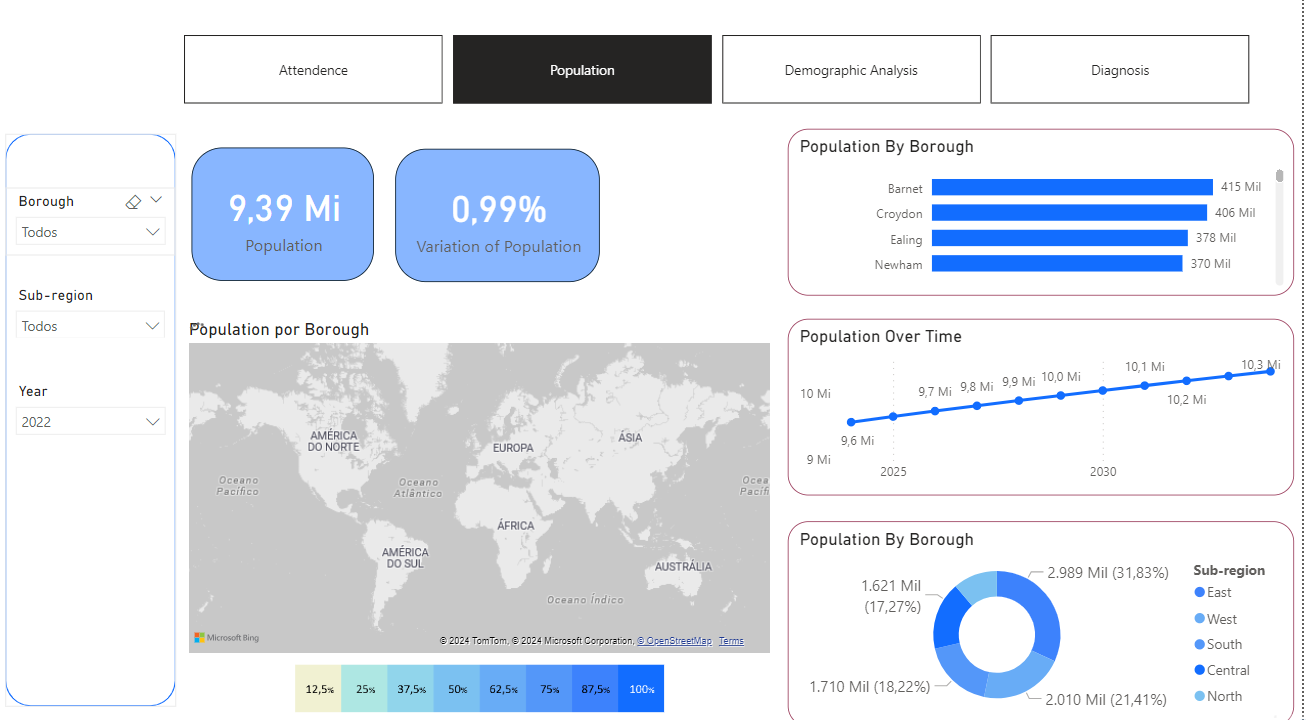

Layout of this report page (visuals, bound fields, positions):
{"tool":"powerbi","page":{"name":"Population","canvas":[1280,720],"ordinal":1},"visuals":[{"type":"shape","box":[11.3,140.8,166.7,559.8],"z":0,"group":"g1"},{"type":"card","fields":{"Values":["Sum(f_population.Population)"]},"box":[192.9,154.1,178.6,130],"z":0},{"type":"slicer","fields":{"Values":["d_date.Date.Variation.Date Hierarchy.Year"]},"box":[11.3,378.6,166.7,58.2],"z":500,"group":"g1"},{"type":"slicer","fields":{"Values":["d_area.Area name"]},"box":[11.3,193.8,166.7,66],"z":1000,"group":"g1"},{"type":"group","id":"g1","title":"Grupo 1","box":[11.3,140.8,166.7,559.8],"z":1000},{"type":"slicer","fields":{"Values":["d_area.Sub-region"]},"box":[11.3,285.4,166.3,54.8],"z":1500,"group":"g1"},{"type":"filledMap","fields":{"Category":["d_area.Borough Adjusted"]},"box":[186.1,322,577.6,331.7],"z":2000},{"type":"pageNavigator","box":[186.1,43.7,1043.6,68],"z":3000},{"type":"barChart","title":"Population By Borough","fields":{"Category":["d_area.Area name"],"Y":["Sum(f_population.Population)"]},"box":[776.1,135.4,495.1,163.4],"z":4000},{"type":"lineChart","title":"Population Over Time","fields":{"Category":["d_date.Year"],"Y":["Measure.Population per Year"]},"box":[776.1,321.4,495.1,173.1],"z":5000},{"type":"image","box":[289.6,645.6,370.5,74.4],"z":6000},{"type":"donutChart","title":"Population By Borough","fields":{"Category":["d_area.Sub-region"],"Y":["Sum(f_population.Population)"]},"box":[776.6,519.4,495.1,200.6],"z":7000},{"type":"card","fields":{"Values":["Measure.variation of population"]},"box":[392,155.1,200.4,130.7],"z":8000}]}

Visuals, with their boxes in screenshot pixels (x1, y1, x2, y2), scaled from the page's 1280x720 canvas onto the 1306x720 screenshot:
shape: detection(12, 141, 182, 701)
card - Sum(f_population.Population): detection(197, 154, 379, 284)
slicer - d_date.Date.Variation.Date Hierarchy.Year: detection(12, 379, 182, 437)
slicer - d_area.Area name: detection(12, 194, 182, 260)
"Grupo 1" group: detection(12, 141, 182, 701)
slicer - d_area.Sub-region: detection(12, 285, 181, 340)
filledMap - d_area.Borough Adjusted: detection(190, 322, 779, 654)
pageNavigator: detection(190, 44, 1255, 112)
"Population By Borough" barChart: detection(792, 135, 1297, 299)
"Population Over Time" lineChart: detection(792, 321, 1297, 494)
image: detection(295, 646, 674, 719)
"Population By Borough" donutChart: detection(792, 519, 1298, 719)
card - Measure.variation of population: detection(400, 155, 604, 286)
